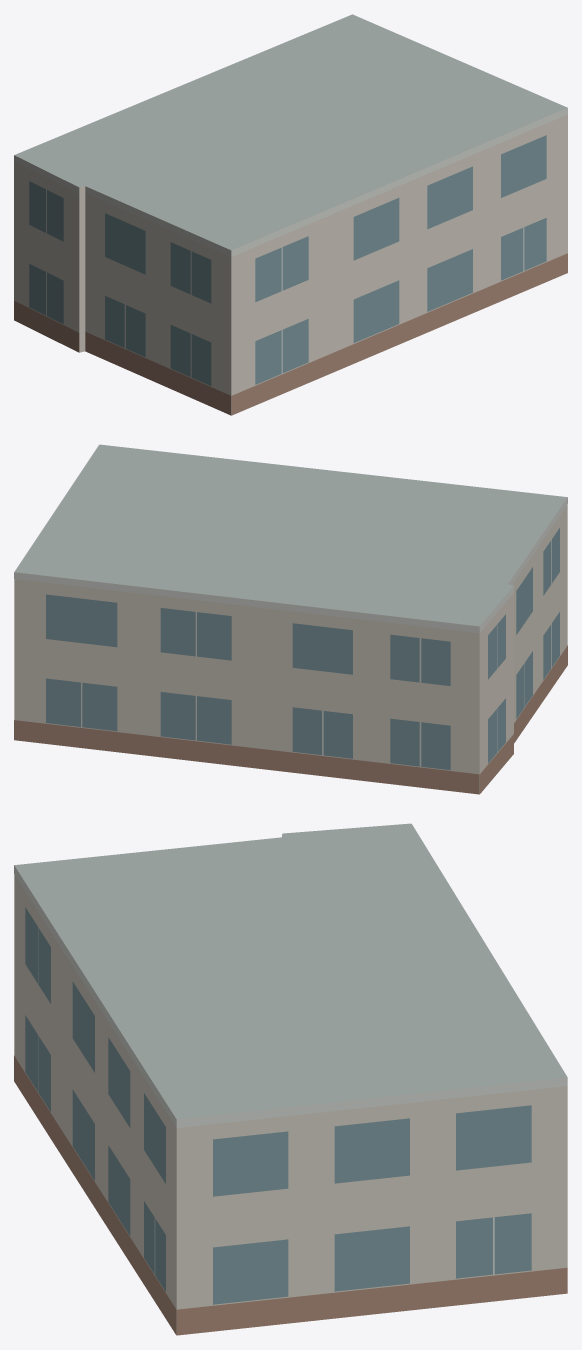
Rendered from survey-upis-32921109.glb.
3 renders of one model, top to bottom at view 1: azimuth 30°, elevation 25°; view 2: azimuth 150°, elevation 25°; view 3: azimuth 270°, elevation 25°, orthographic. The views are drawn at different scales.
Parts seen in each view (by area): view 1: survey-upis-32921109.tmp; view 2: survey-upis-32921109.tmp; view 3: survey-upis-32921109.tmp.
Boxes of the visible parts, x1=… form: survey-upis-32921109.tmp: x1=14, y1=14, x2=567, y2=415; survey-upis-32921109.tmp: x1=14, y1=444, x2=567, y2=794; survey-upis-32921109.tmp: x1=14, y1=823, x2=567, y2=1335.
Size of the model in its own units: 17.94 by 6.1 by 14.18.
